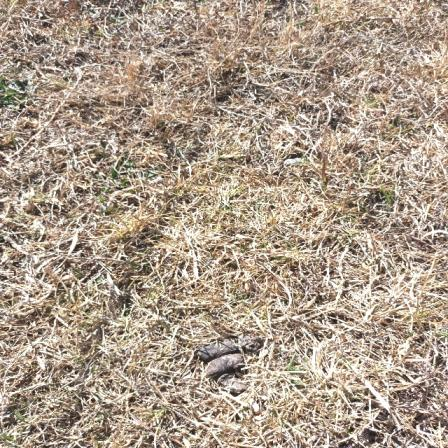dog-poop: (203, 341, 250, 385)
